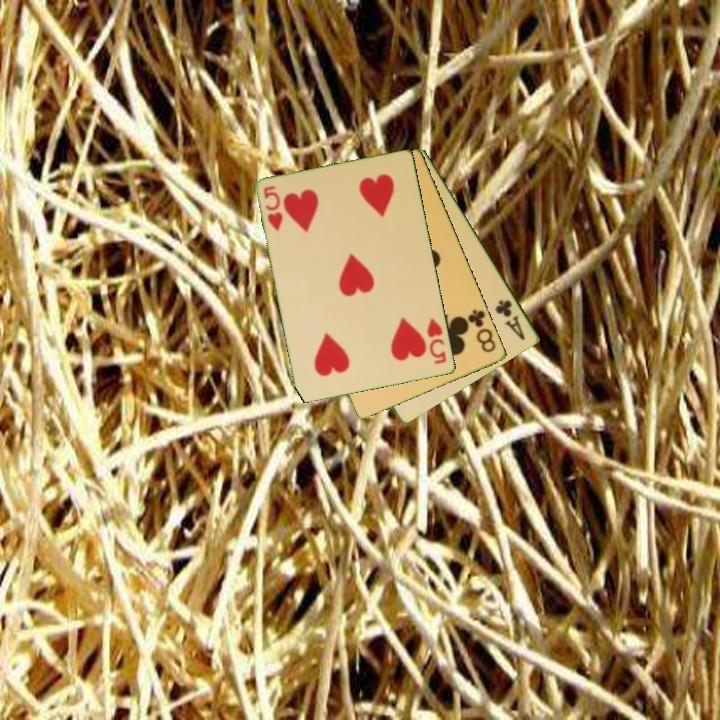5h: (424, 314, 450, 367), (260, 182, 286, 234)
8c: (464, 306, 499, 356)
Ac: (492, 296, 528, 343)
